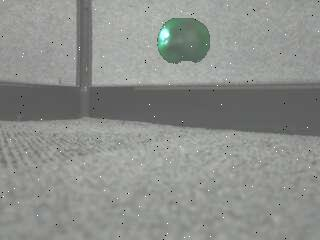Lime: (155, 14, 214, 65)
